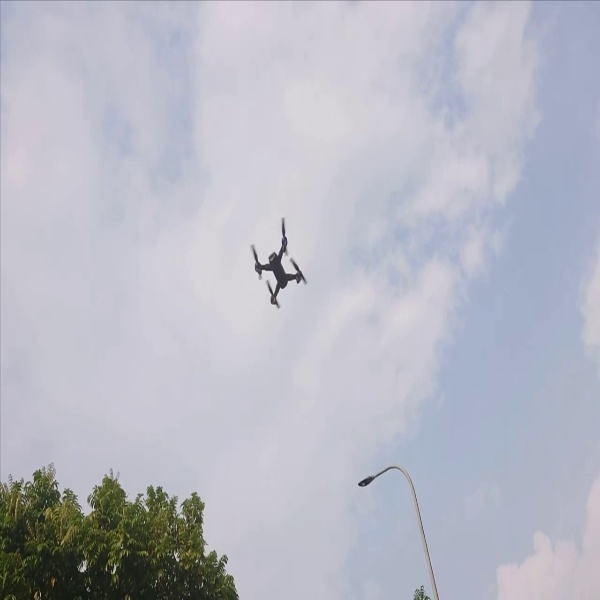drone: (245, 214, 310, 316)
